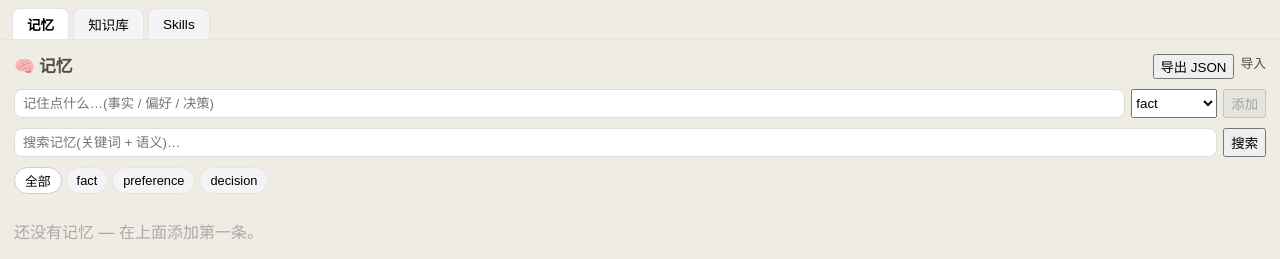
Test: BrainPanel › toggles between 记忆, 知识库 and Skills
The image size is (1280, 259).
Expected: the text "还没有记忆 — 在上面添加第一条。" is shown, [14,222,263,242]
Click the tab "知识库" at (109, 24), box [73,8,144,39]
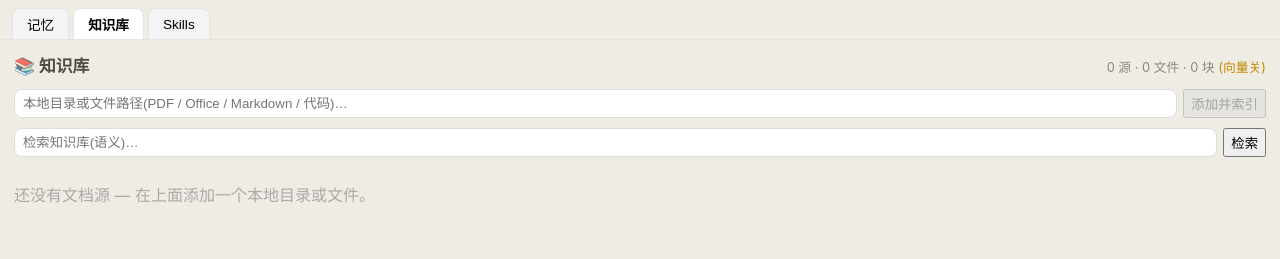
Result: the text "还没有文档源 — 在上面添加一个本地目录或文件。" is shown at [14,185,375,205]
Click the tab "Skills" at (179, 24), box [148,8,210,39]
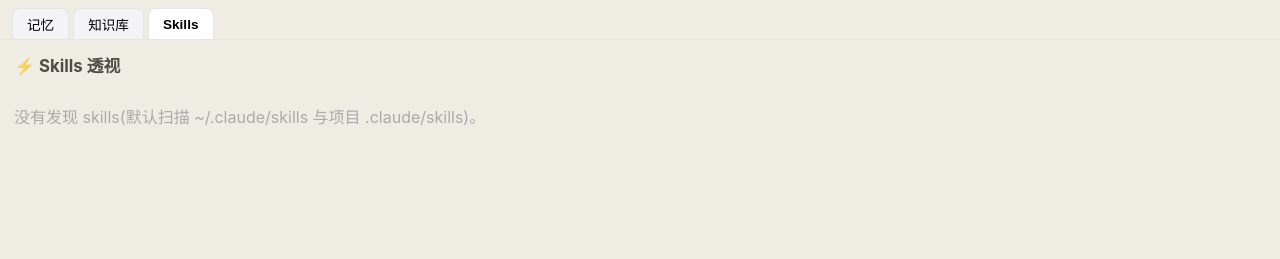
Result: the text "没有发现 skills(默认扫描 ~/.claude/skills 与项目 .claude/skills)。" is shown at [14,107,485,127]
